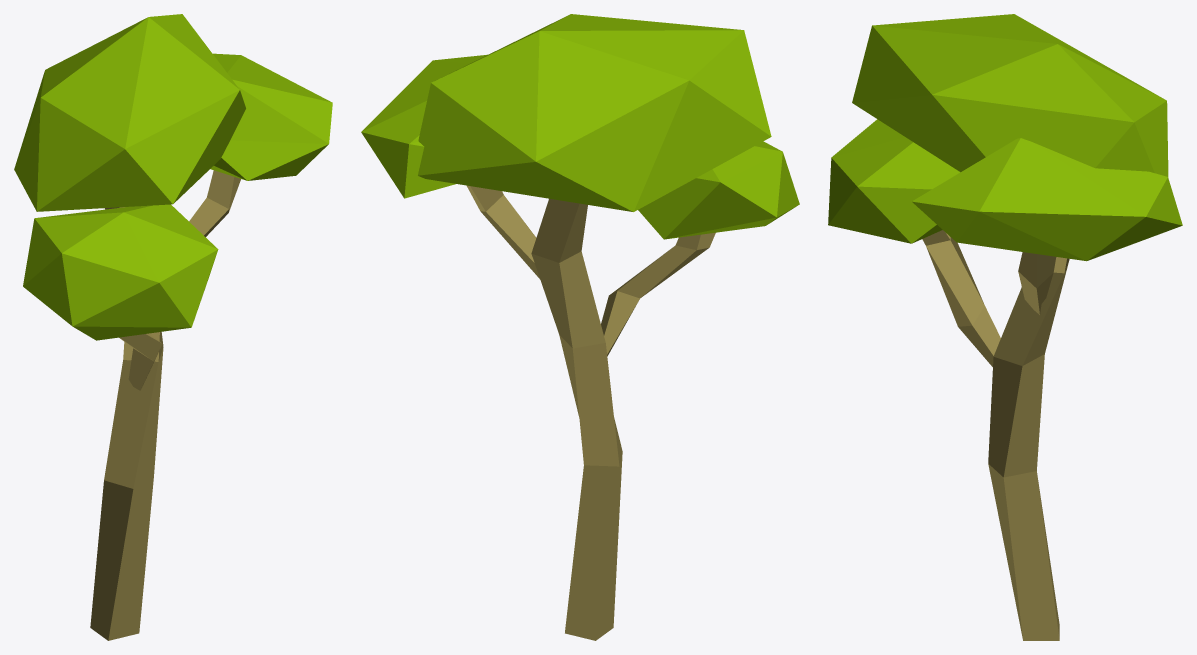
The model's file is Tree_Summer_3.fbx.
3 renders of one model, left to right at view 1: azimuth 30°, elevation 25°; view 2: azimuth 150°, elevation 25°; view 3: azimuth 270°, elevation 25°, orthographic. The views are drawn at different scales.
Parts seen in each view (by area): view 1: Leaves.002, Leaves.001, Trunk, Leaves, Trunk.001, Trunk.002; view 2: Leaves.002, Trunk, Leaves.001, Leaves, Trunk.002, Trunk.001; view 3: Leaves.002, Leaves, Trunk, Leaves.001, Trunk.002, Trunk.001.
Boxes of the visible parts, x1,y1,x2,y2 form: Leaves.002: (14,14,245,211); Leaves.001: (23,204,218,340); Trunk: (90,207,163,640); Leaves: (210,53,332,180); Trunk.001: (189,170,240,236); Trunk.002: (119,333,162,390); Leaves.002: (418,14,771,211); Trunk: (531,198,622,640); Leaves.001: (638,141,799,239); Leaves: (361,54,487,198); Trunk.002: (601,232,715,356); Trunk.001: (467,185,540,279); Leaves.002: (852,14,1168,176); Leaves: (912,138,1182,261); Trunk: (988,257,1069,640); Leaves.001: (828,119,960,243); Trunk.002: (922,230,1000,366); Trunk.001: (1018,252,1056,314).
Size of the model in its own units: 197 by 344 by 181.
